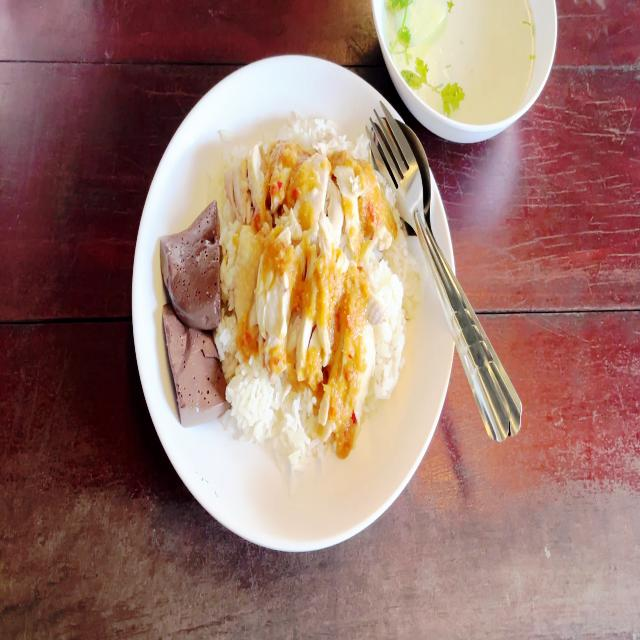boiled_chicken: (235, 153, 363, 369)
boiled_chicken_blood_jelly: (157, 196, 226, 336), (155, 296, 225, 418)
chicken_rice: (166, 133, 410, 475)
